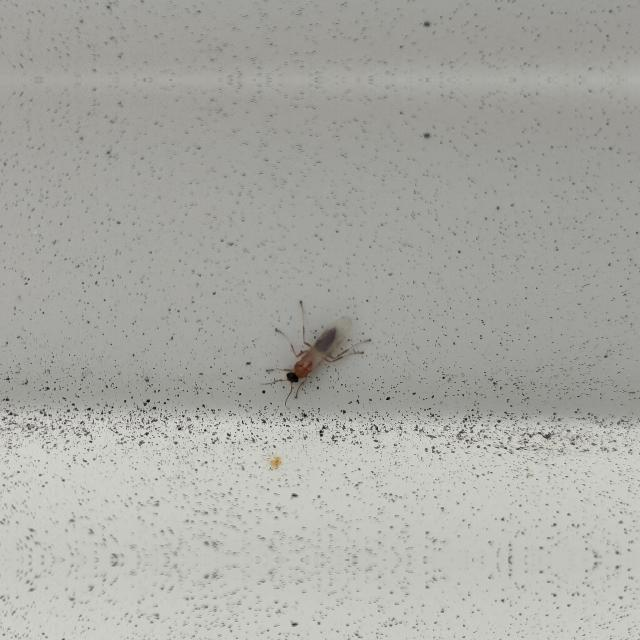Camponotus: (260, 312, 360, 403)
